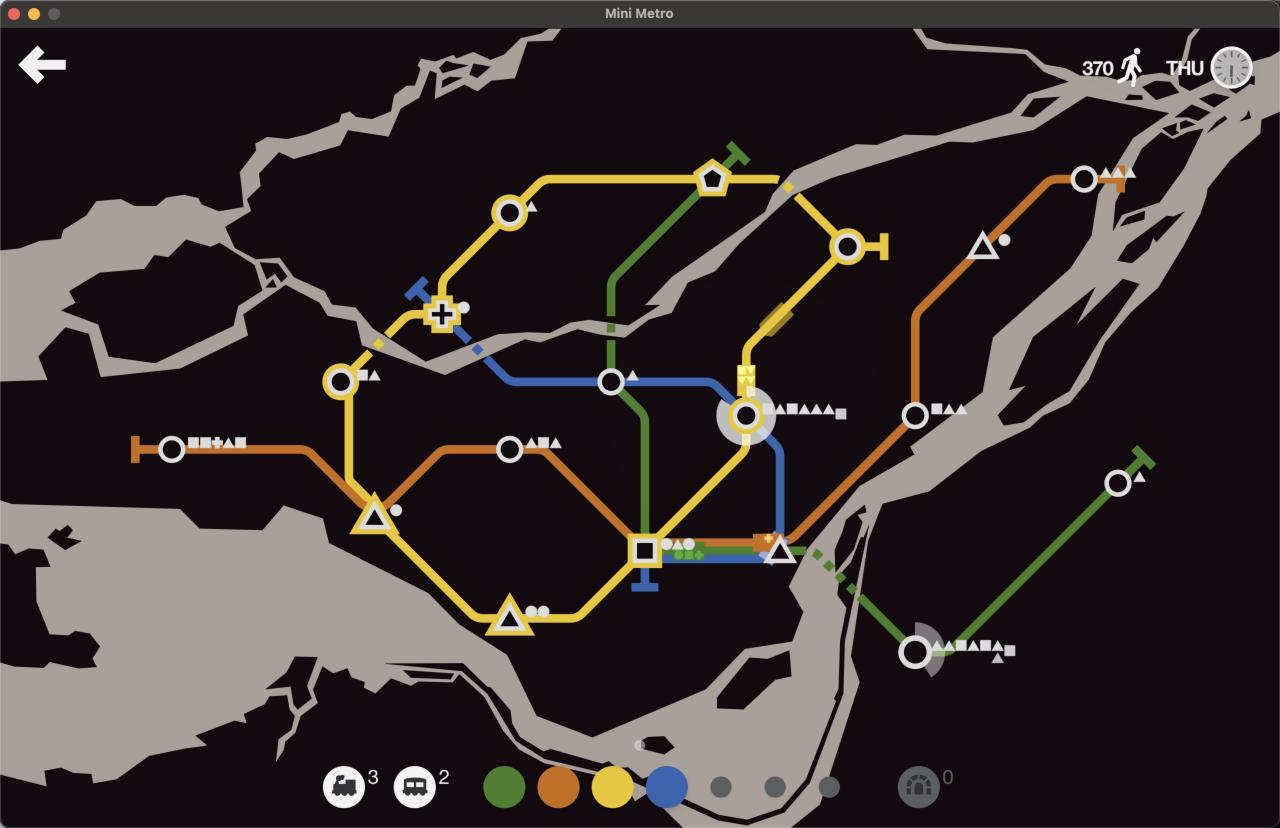CIRCLE: (726, 395, 766, 438), (898, 633, 935, 671), (491, 194, 527, 231), (829, 228, 865, 264), (323, 363, 359, 399), (1103, 468, 1133, 498), (597, 367, 627, 396), (157, 434, 186, 464), (900, 401, 930, 430), (495, 435, 524, 464), (1070, 165, 1099, 194)
CROSS: (426, 296, 460, 332)
PENTAGON: (694, 160, 730, 198)
SQUARE: (630, 536, 660, 566)
TRIANGLE: (485, 593, 535, 638), (351, 494, 397, 534), (760, 534, 797, 566), (967, 229, 1003, 260)
